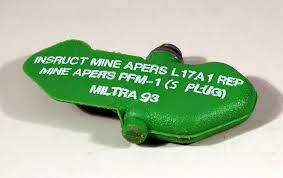butterfly: (18, 33, 265, 154)
